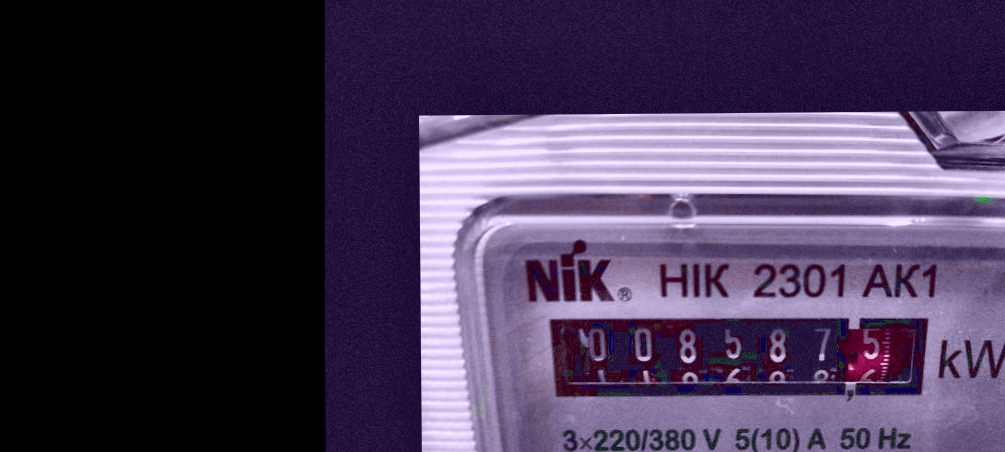0: (631, 323, 655, 363)
1: (585, 324, 609, 365)
5: (860, 322, 884, 363), (722, 323, 745, 362)
7: (811, 324, 834, 365)
8: (675, 325, 700, 366), (767, 324, 788, 365)
screen: (530, 296, 948, 418)
